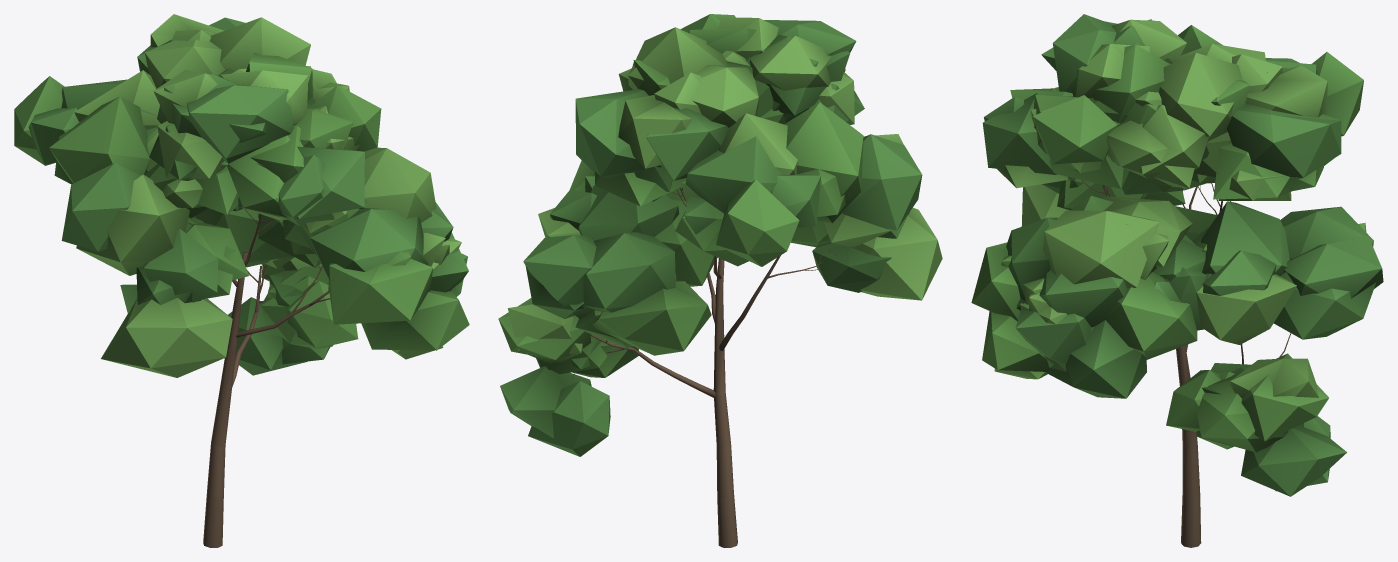
File: obj_arbol.glb
The picture shows the model from 3 angles, left to right: view 1: azimuth 30°, elevation 25°; view 2: azimuth 150°, elevation 25°; view 3: azimuth 270°, elevation 25°; orthographic projection.
Visible parts, largest first — view 1: propforge-libre-arbol; view 2: propforge-libre-arbol; view 3: propforge-libre-arbol.
Boxes of the visible parts, x1,y1,x2,y2 form: propforge-libre-arbol: (14, 14, 469, 547); propforge-libre-arbol: (498, 14, 942, 547); propforge-libre-arbol: (971, 14, 1383, 547).
Bounding box in the file's own units: 2.11 × 2.76 × 2.
